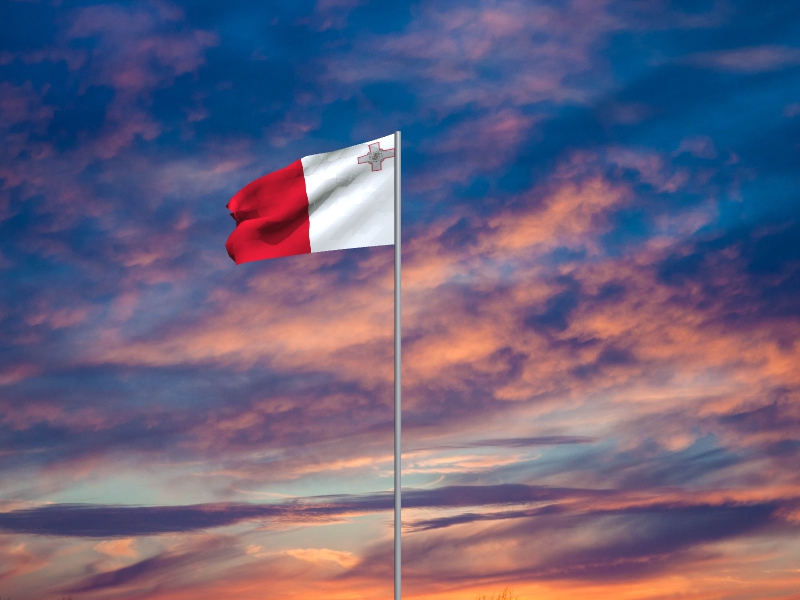mt: (225, 134, 395, 265)
